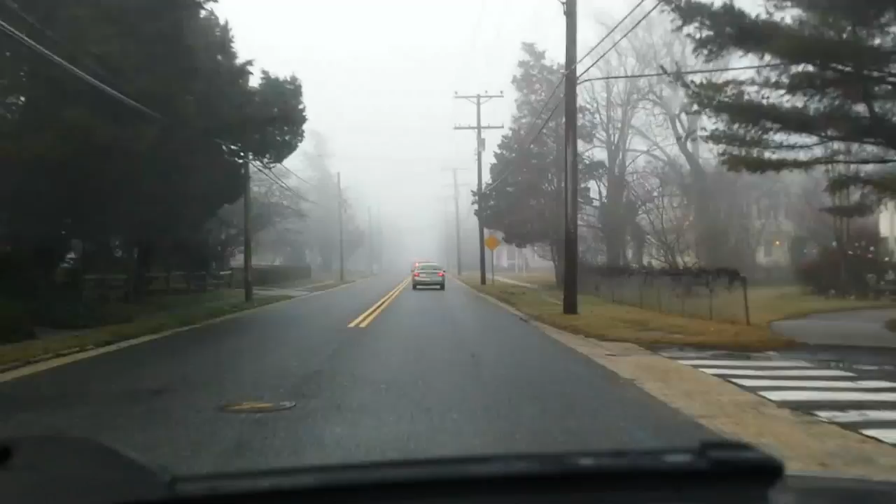car: (409, 261, 448, 292)
